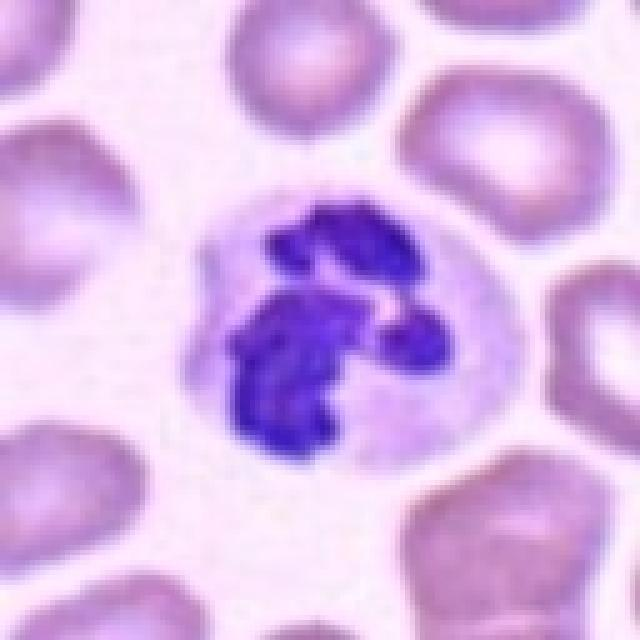neutro: (99, 161, 547, 499)
